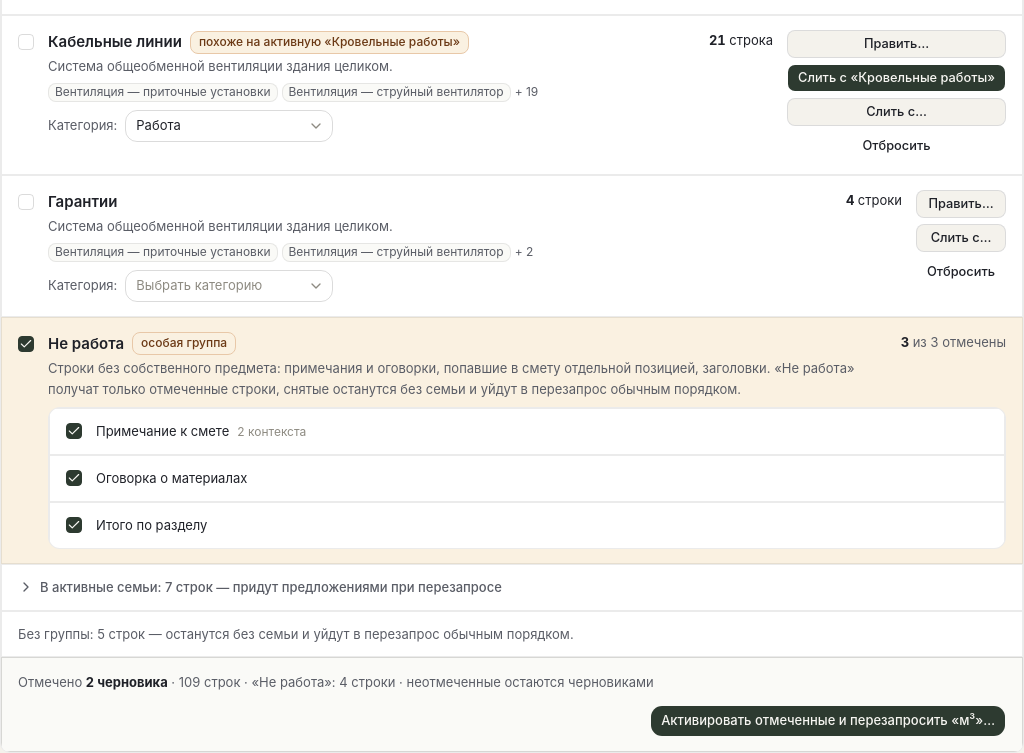
Test: DiscoveryDrafts — показ › «Не работа» построчно, «в активные семьи» и остаток — свёрнутыми строками с числами
(page scrolled)
Expected: the number of elements with test id "not-work-row" is 3, [49,408,1005,455]; [49,455,1005,502]; [49,502,1005,548]
Expected: the text with test id "discovery-rest" shows "Без группы: 5 строк", [1,611,1023,657]
Click the button "В активные семьи: 7 строк": coordinates (260, 587) [18,577,502,598]
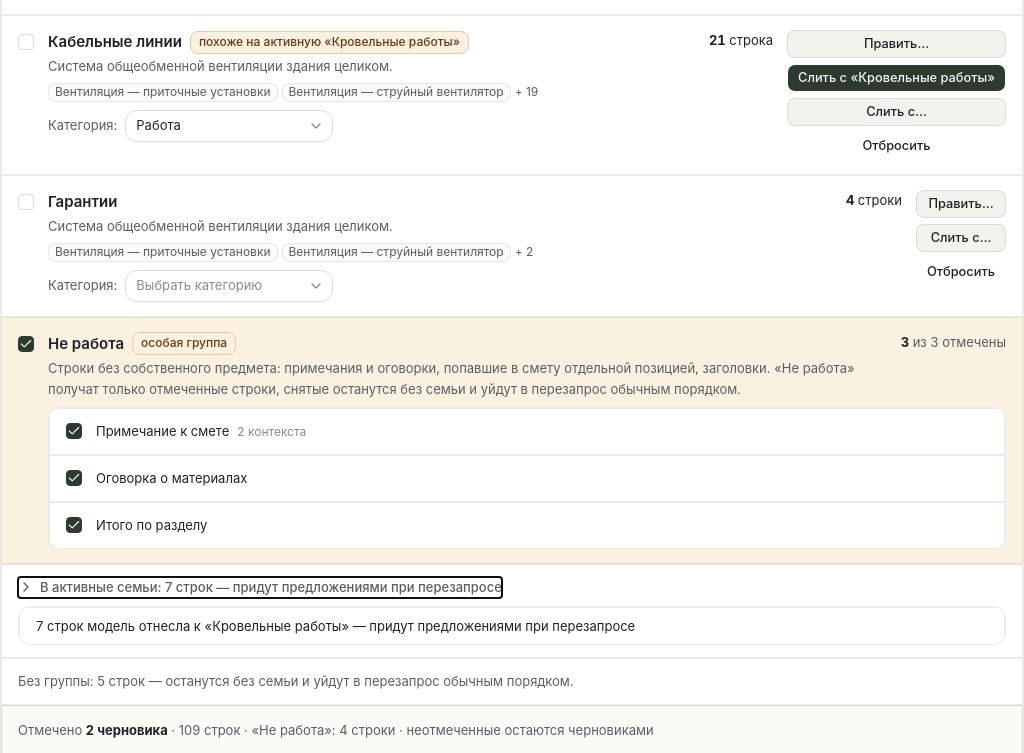
Expected: the text with test id "existing-group" shows "7 строк модель отнесла к «Кровельные работы» — придут предложениями при перезапросе", [19,607,1005,644]
